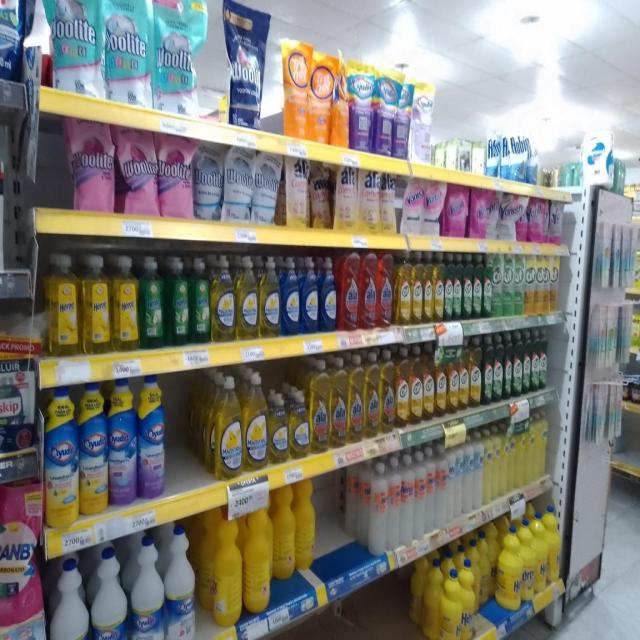ala_conc_amarillo: (310, 358, 329, 454), (330, 356, 347, 449), (348, 353, 363, 444), (364, 350, 379, 439), (380, 348, 394, 434)
ala_conc_rojo: (339, 250, 359, 332), (360, 250, 376, 330), (378, 251, 393, 328)
ala_crem_amarillo: (484, 426, 493, 504), (504, 424, 514, 494), (516, 419, 526, 488), (492, 428, 501, 500)
cif_conc_bot_amarilla: (395, 251, 411, 326), (395, 347, 409, 429), (410, 344, 422, 425), (435, 343, 447, 418), (423, 343, 434, 421), (470, 336, 481, 408), (433, 251, 444, 322), (412, 251, 422, 325), (423, 251, 433, 323), (448, 342, 458, 414), (459, 340, 469, 410)
cif_conc_botella_verde: (482, 335, 492, 405), (493, 334, 503, 402), (512, 331, 522, 397), (482, 254, 492, 318), (444, 252, 453, 321), (453, 252, 462, 320), (463, 253, 472, 320), (473, 253, 482, 319), (522, 330, 531, 394), (531, 330, 540, 392), (504, 332, 512, 400), (540, 329, 548, 391)
cif_conc_sachet_amarillo: (525, 253, 536, 316), (537, 253, 547, 316), (550, 254, 559, 313)
cif_conc_sachet_verde: (502, 253, 514, 317), (492, 252, 502, 318), (514, 253, 524, 316)
drive: (117, 127, 157, 216)
heroe: (368, 460, 388, 556), (401, 454, 414, 546), (388, 456, 400, 551)
magistral_con_amarillo: (214, 374, 242, 479), (244, 370, 268, 470), (211, 254, 235, 343), (236, 255, 258, 341), (259, 255, 280, 339), (268, 391, 288, 465), (289, 390, 309, 460)
magistral_con_azul: (0, 0, 23, 81), (281, 255, 300, 336), (301, 255, 319, 334), (320, 255, 337, 333)
